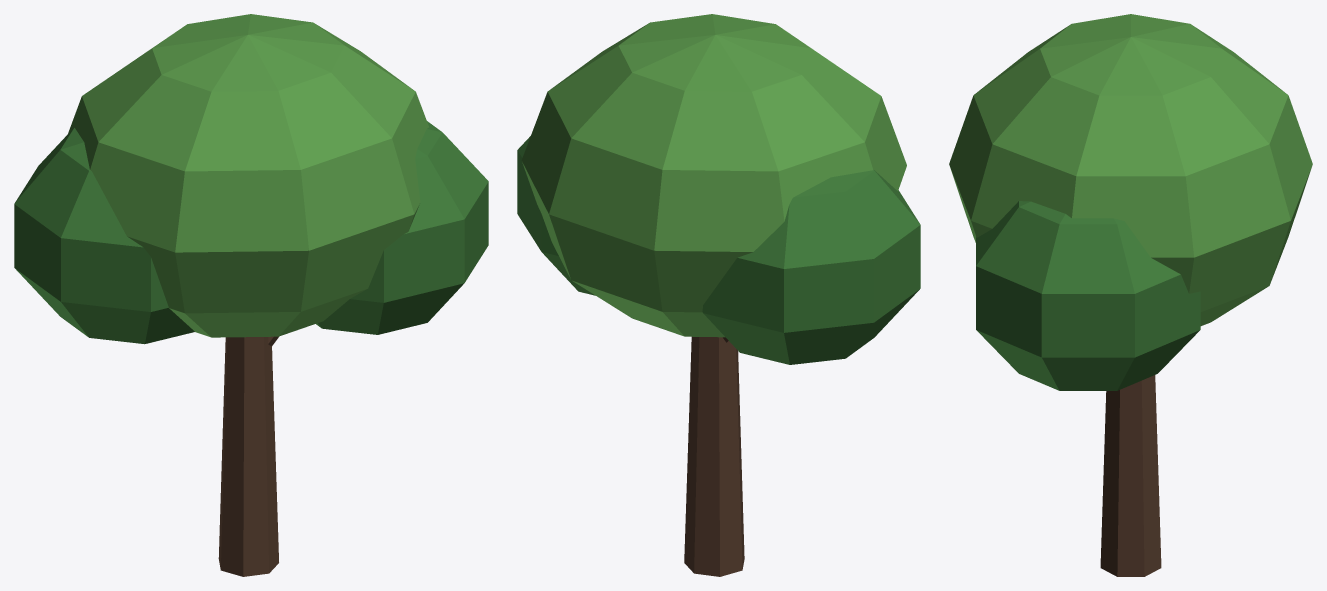
Rendered from tree_oak.glb.
3 views of the same model, side by side, from view 1: azimuth 30°, elevation 25°; view 2: azimuth 150°, elevation 25°; view 3: azimuth 270°, elevation 25° (orthographic).
Visible parts, largest first — view 1: tree_oak; view 2: tree_oak; view 3: tree_oak.
Part boxes in pixels (x1,y1,x2,y2): tree_oak: (14, 14, 488, 576); tree_oak: (517, 14, 920, 576); tree_oak: (949, 14, 1312, 576).
Bounding box in the file's own units: 3.18 × 4.1 × 2.56.
